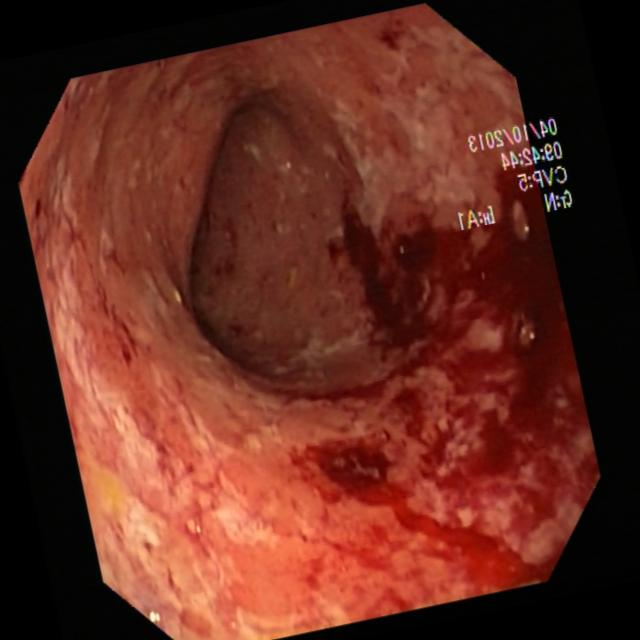ulcerative-colities: (281, 83, 601, 599), (25, 139, 284, 636)
